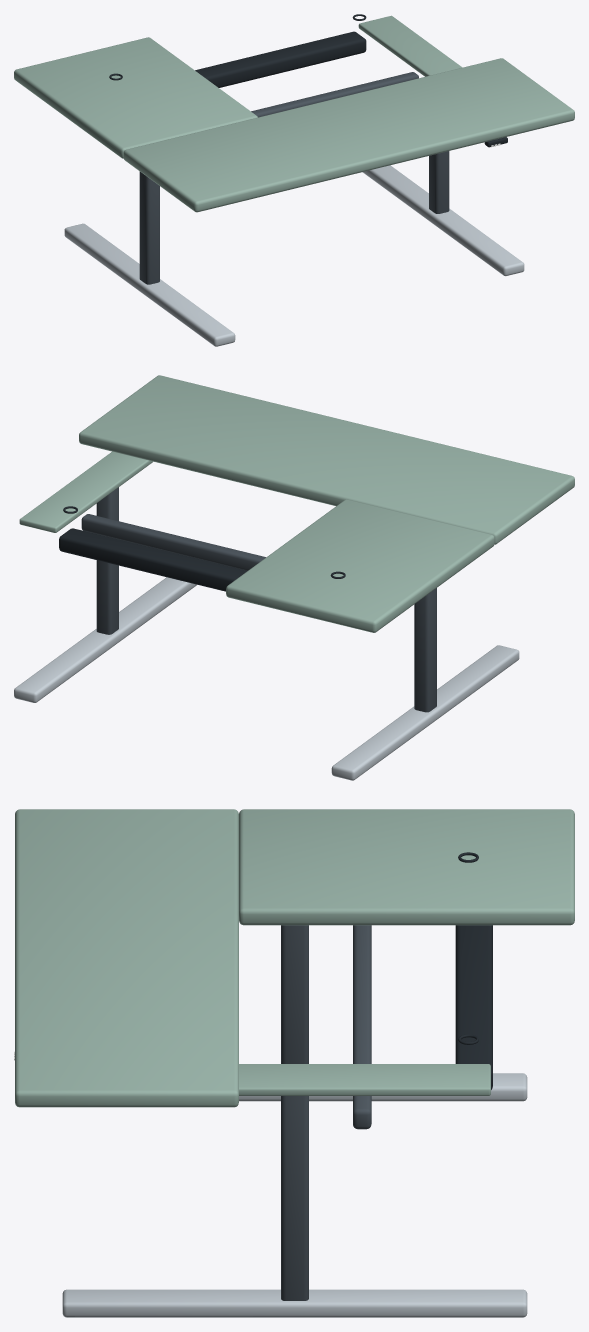
The model's file is corner-desk.glb.
3 views of the same model, one above another, from view 1: azimuth 30°, elevation 25°; view 2: azimuth 150°, elevation 25°; view 3: azimuth 270°, elevation 25° (orthographic). The views are drawn at different scales.
Parts seen in each view (by area): view 1: corner-desk; view 2: corner-desk; view 3: corner-desk.
Part boxes in pixels (x1,y1,x2,y2): corner-desk: (14,14,574,346); corner-desk: (14,375,574,780); corner-desk: (14,809,574,1317).
Size of the model in its own units: 1.8 by 0.76 by 1.5.
